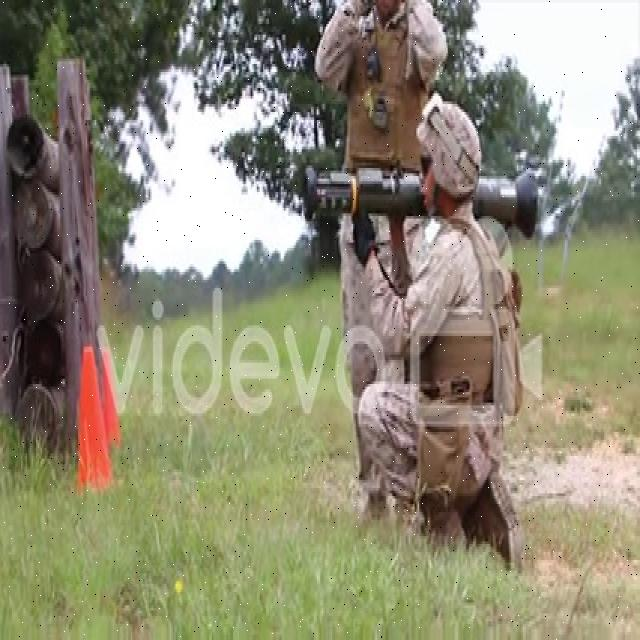bazooka: (301, 164, 543, 244)
